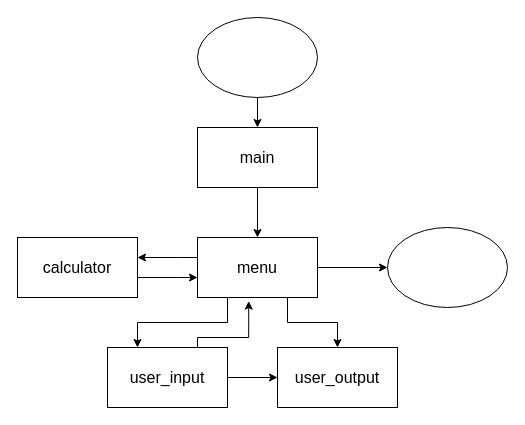
Image size: 525x425. Some labels were removed from this diagram. The shapes that lost their labels are listed below. From the top down, each one's centre as x and y in pixels, then its label:
At [257,57]: "Начало".
At [447,267]: "Конец".
